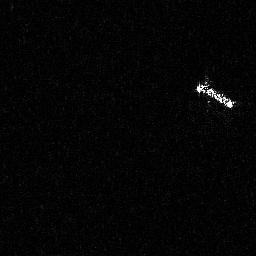ship: (191, 73, 237, 112)
